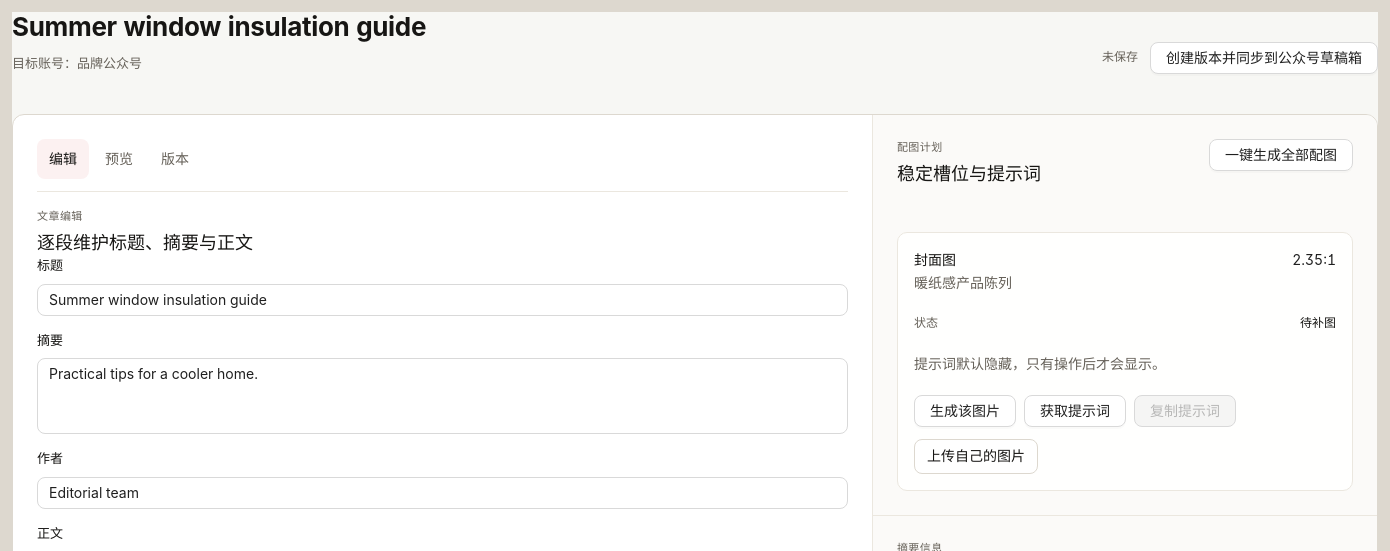
Test case: WechatArticleWorkspace › keeps newer local text when an older save resolves late
Replace the text in the field labelled "标题" with "First title": (442, 300) [37,284,848,316]
Wait 2000 ms
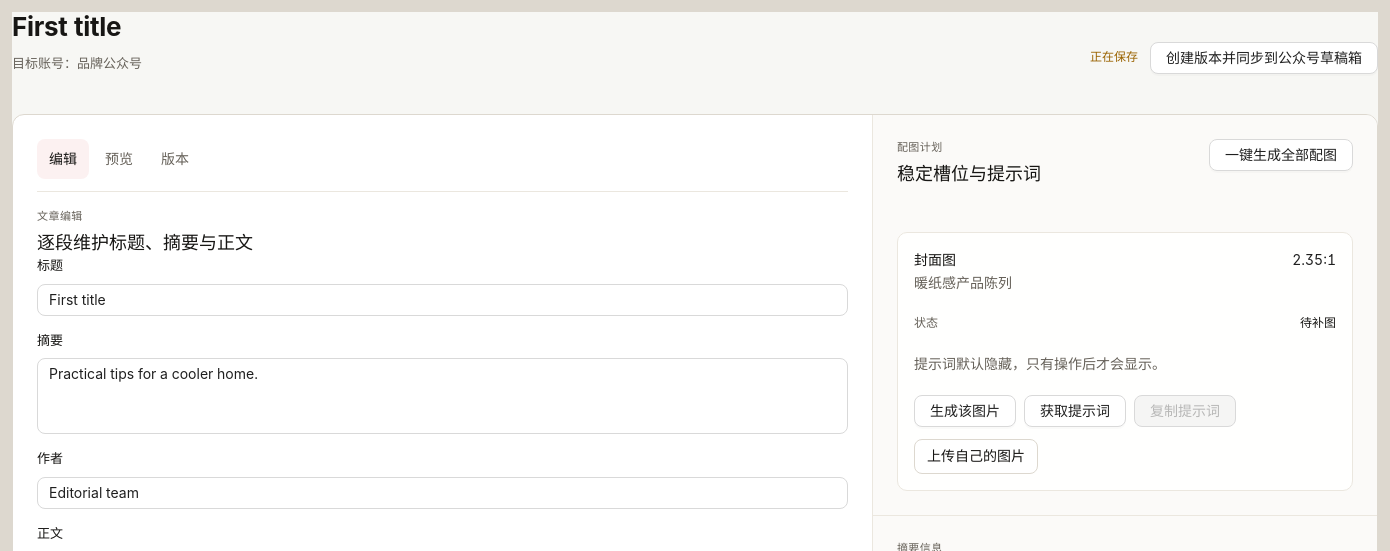
Replace the text in the field labelled "标题" with "Second title": (442, 300) [37,284,848,316]
Wait 2000 ms
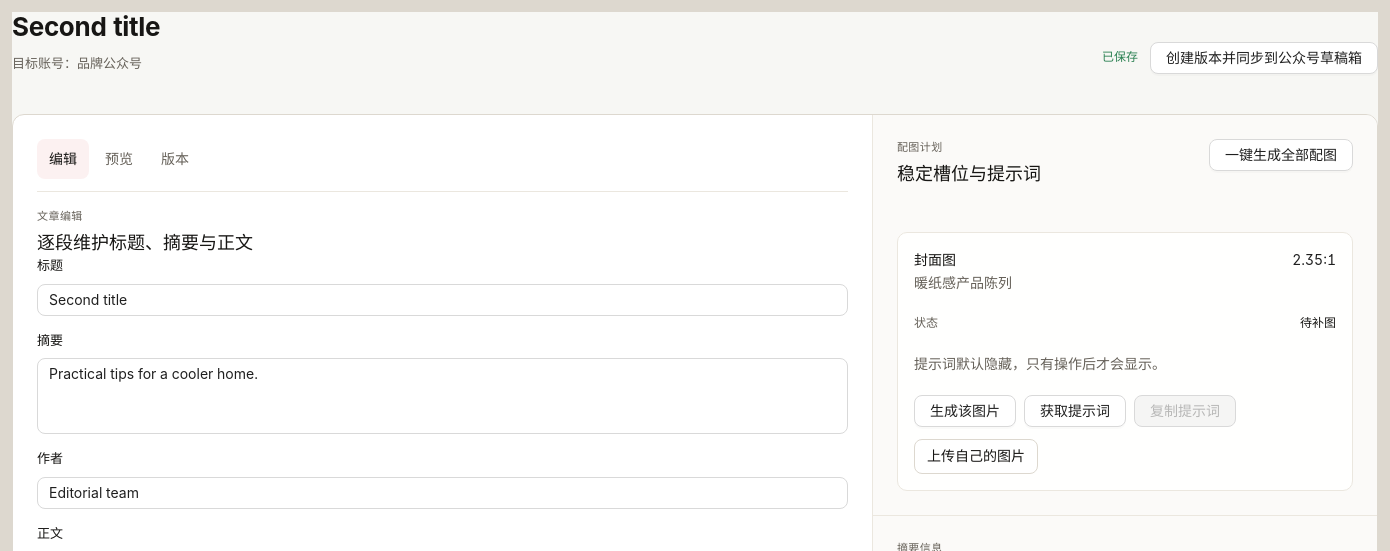
Expected: the heading "Second title" is shown, [12,12,160,42]
